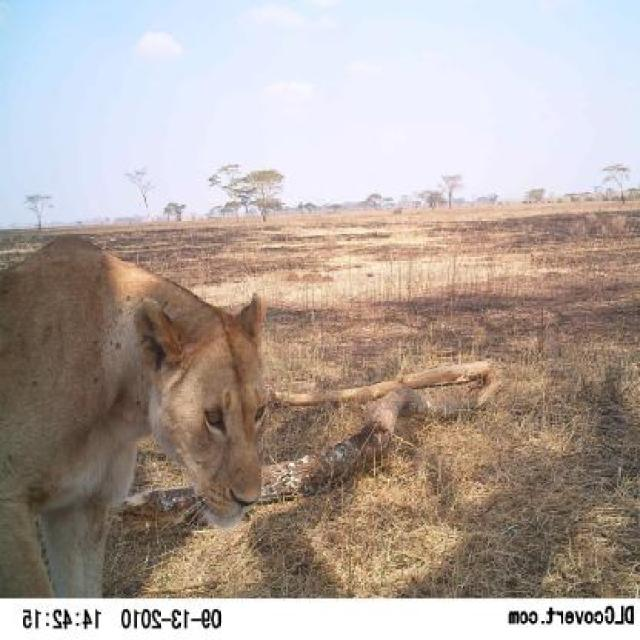Lion: (1, 218, 272, 591)
